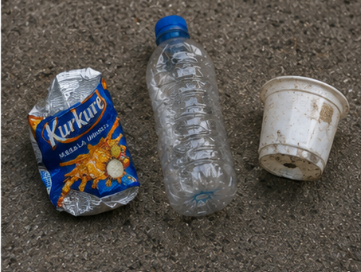plastic: (144, 16, 238, 218), (27, 67, 139, 216), (256, 75, 350, 181)
